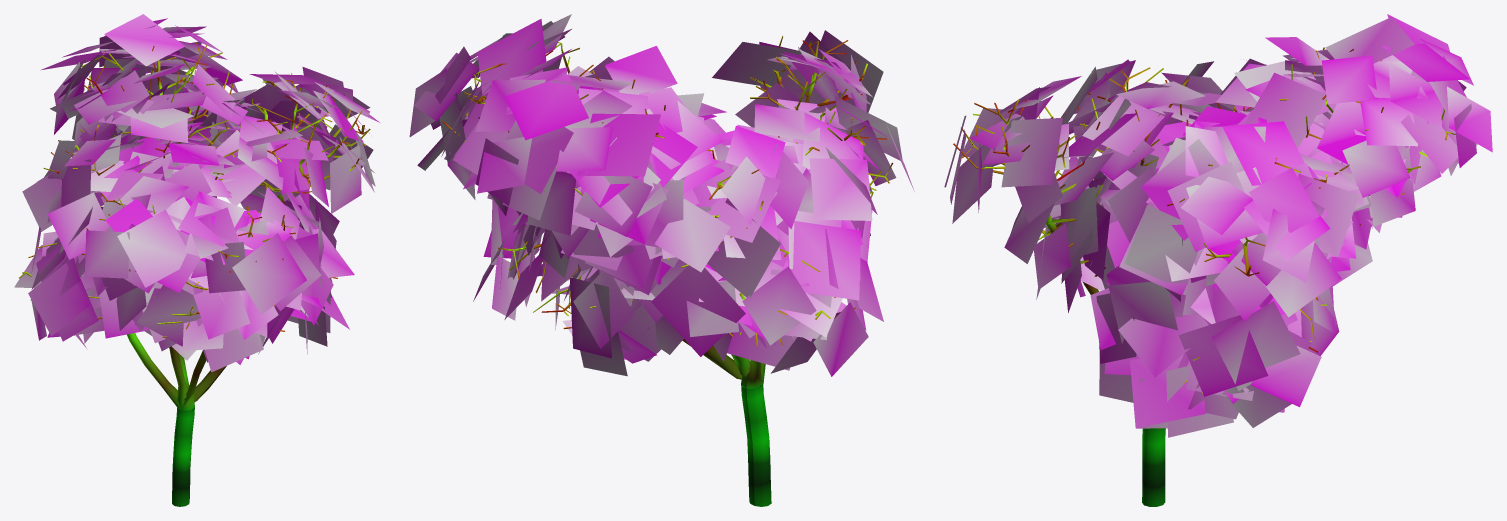
The model's file is Tree_A1.fbx.
3 renders of one model, left to right at view 1: azimuth 30°, elevation 25°; view 2: azimuth 150°, elevation 25°; view 3: azimuth 270°, elevation 25°, orthographic. The views are drawn at different scales.
Visible parts, largest first — view 1: Tree_A1_LOD0; view 2: Tree_A1_LOD0; view 3: Tree_A1_LOD0.
Boxes of the visible parts, left/top/right/bottom form: Tree_A1_LOD0: left=14, top=14, right=379, bottom=506; Tree_A1_LOD0: left=409, top=14, right=914, bottom=506; Tree_A1_LOD0: left=944, top=14, right=1492, bottom=506.
Size of what is drawn, in the model's own units: 10.31 by 11.2 by 11.15.
